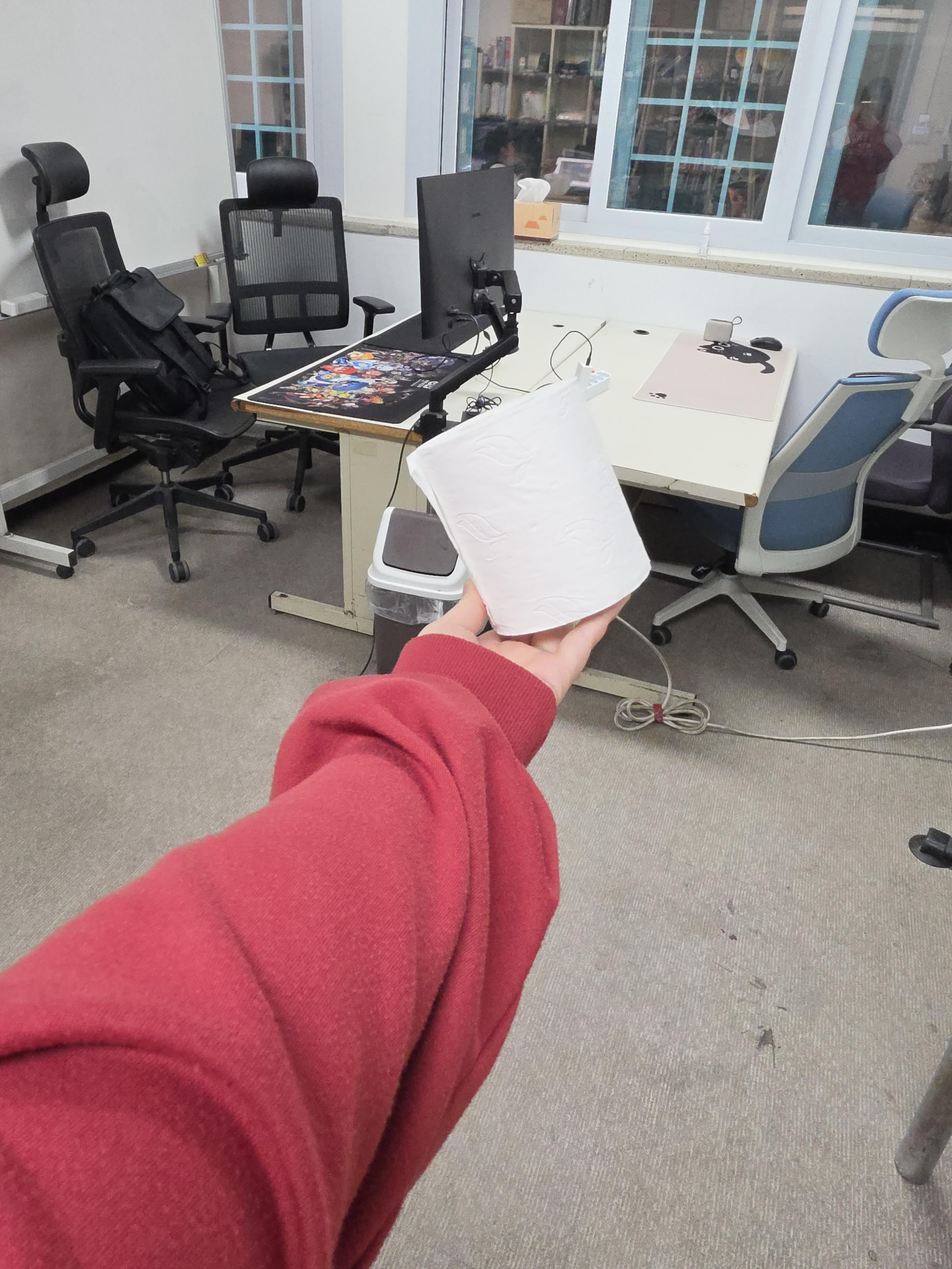tissue: (406, 377, 651, 637), (514, 178, 562, 242)
